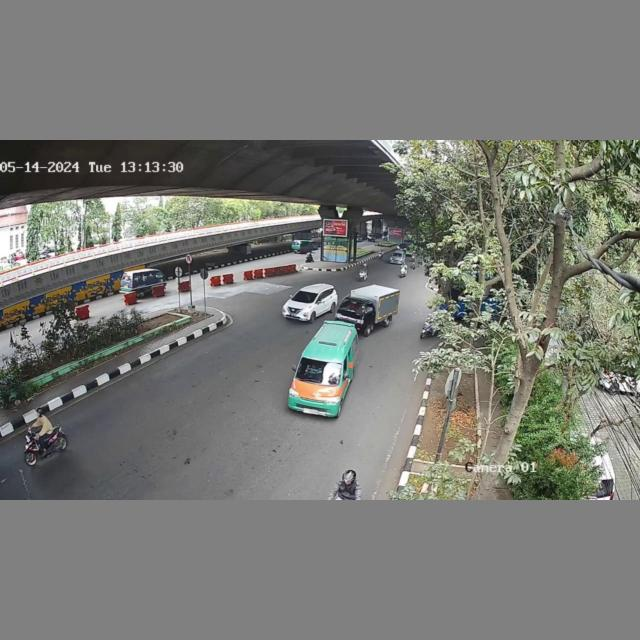windshield: (296, 357, 341, 386), (342, 297, 368, 314), (291, 290, 317, 304)
